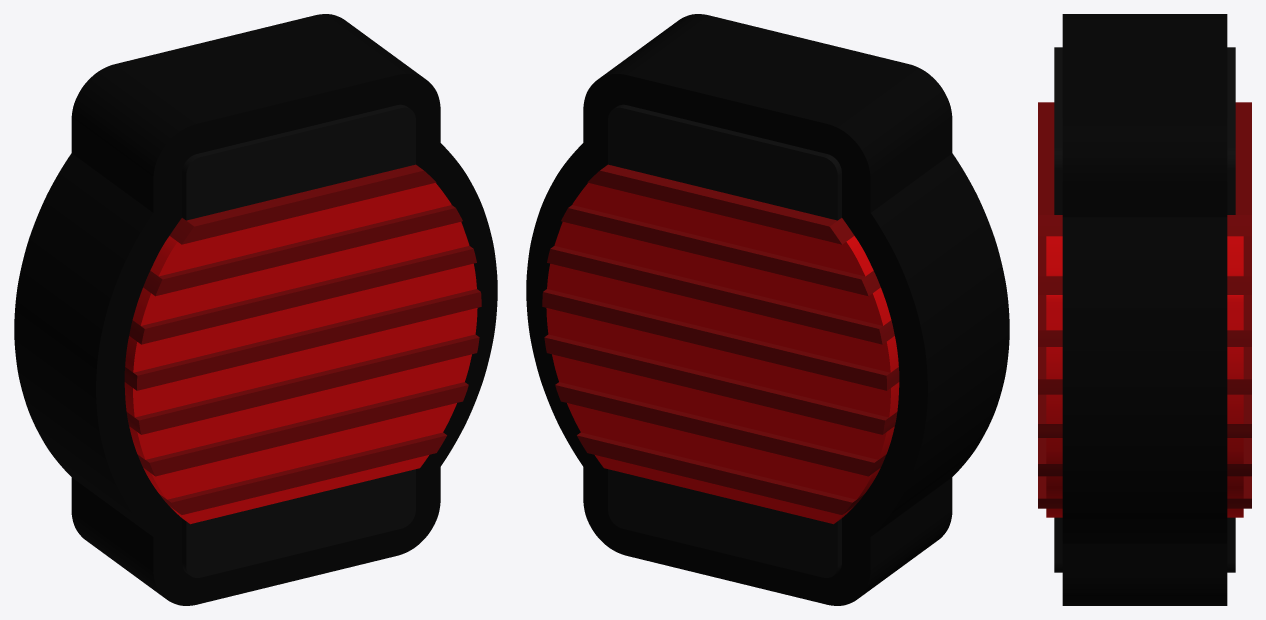
3 renders of one model, left to right at view 1: azimuth 30°, elevation 25°; view 2: azimuth 150°, elevation 25°; view 3: azimuth 270°, elevation 25°, orthographic.
Parts seen in each view (by area): view 1: U+1F3EE_layer00_obj00, U+1F3EE_layer02_obj00, U+1F3EE_layer03_obj00, U+1F3EE_layer01_obj00; view 2: U+1F3EE_layer00_obj00, U+1F3EE_layer02_obj00, U+1F3EE_layer03_obj00, U+1F3EE_layer01_obj00; view 3: U+1F3EE_layer00_obj00, U+1F3EE_layer03_obj00, U+1F3EE_layer02_obj00, U+1F3EE_layer01_obj00.
Part boxes in pixels (x1=…): U+1F3EE_layer00_obj00: x1=14, y1=14, x2=497, y2=605; U+1F3EE_layer02_obj00: x1=124, y1=183, x2=477, y2=524; U+1F3EE_layer03_obj00: x1=124, y1=164, x2=481, y2=514; U+1F3EE_layer01_obj00: x1=182, y1=104, x2=415, y2=577; U+1F3EE_layer00_obj00: x1=526, y1=14, x2=1009, y2=605; U+1F3EE_layer02_obj00: x1=546, y1=183, x2=899, y2=524; U+1F3EE_layer03_obj00: x1=542, y1=164, x2=899, y2=514; U+1F3EE_layer01_obj00: x1=608, y1=104, x2=841, y2=577; U+1F3EE_layer00_obj00: x1=1062, y1=14, x2=1227, y2=605; U+1F3EE_layer03_obj00: x1=1038, y1=102, x2=1251, y2=508; U+1F3EE_layer02_obj00: x1=1046, y1=236, x2=1243, y2=517; U+1F3EE_layer01_obj00: x1=1054, y1=47, x2=1235, y2=572.
Size of the model in its own units: 0.5676 by 0.649 by 0.26.
